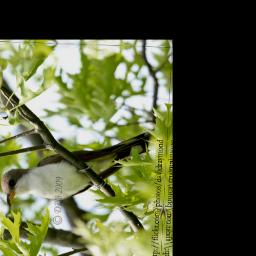Cuckoo: (0, 127, 156, 212)
